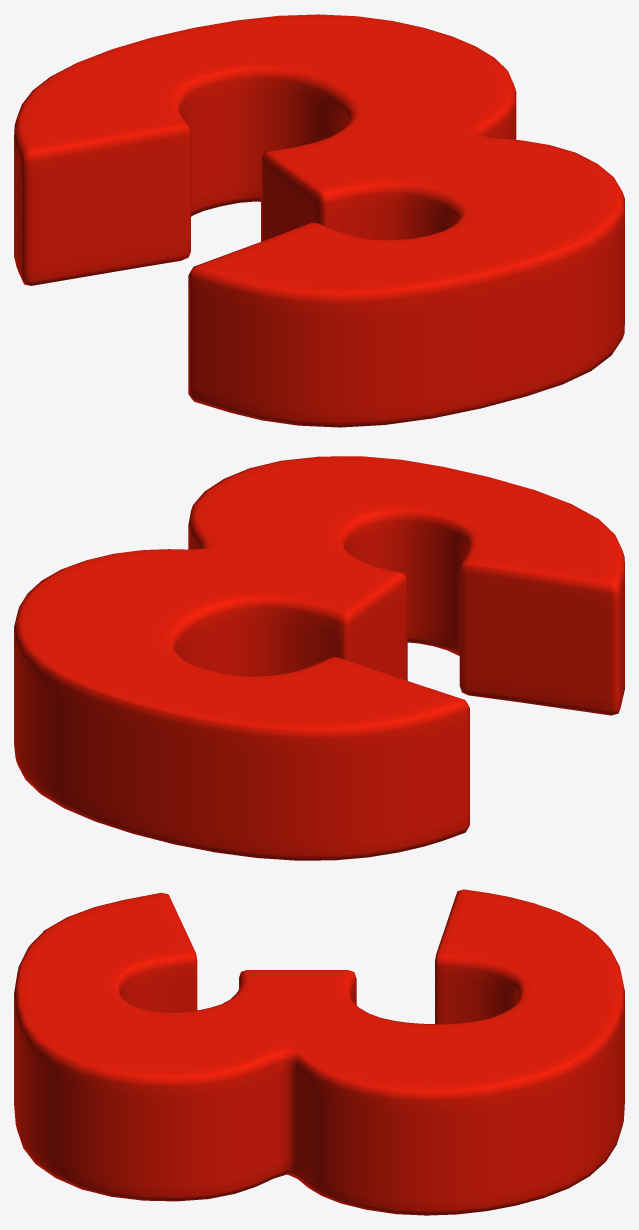
The picture shows the model from 3 angles, top to bottom: view 1: azimuth 30°, elevation 25°; view 2: azimuth 150°, elevation 25°; view 3: azimuth 270°, elevation 25°; orthographic projection. The views are drawn at different scales.
Parts seen in each view (by area): view 1: Three_lambert1_0; view 2: Three_lambert1_0; view 3: Three_lambert1_0.
Part boxes in pixels (left/top/right/bottom): Three_lambert1_0: left=14, top=14, right=624, bottom=427; Three_lambert1_0: left=14, top=456, right=624, bottom=860; Three_lambert1_0: left=14, top=889, right=624, bottom=1215.
Bounding box in the file's own units: 1.76 × 0.5011 × 2.2.
